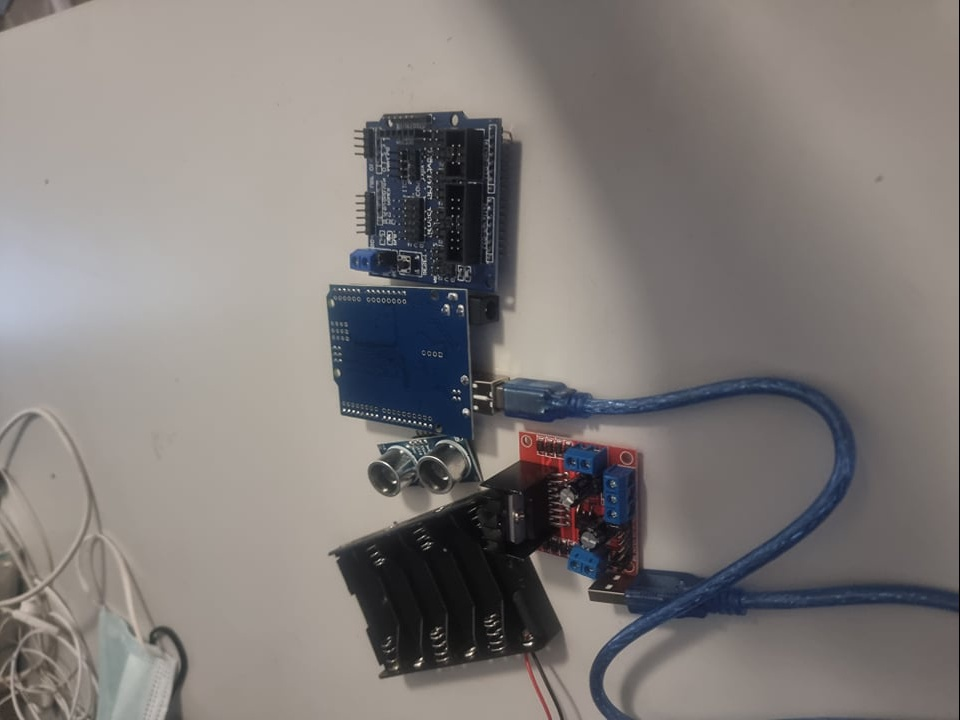5V EXPANSION: (351, 105, 510, 288)
BATTERY BOX: (320, 511, 563, 660)
MOTOR: (486, 436, 653, 593)
